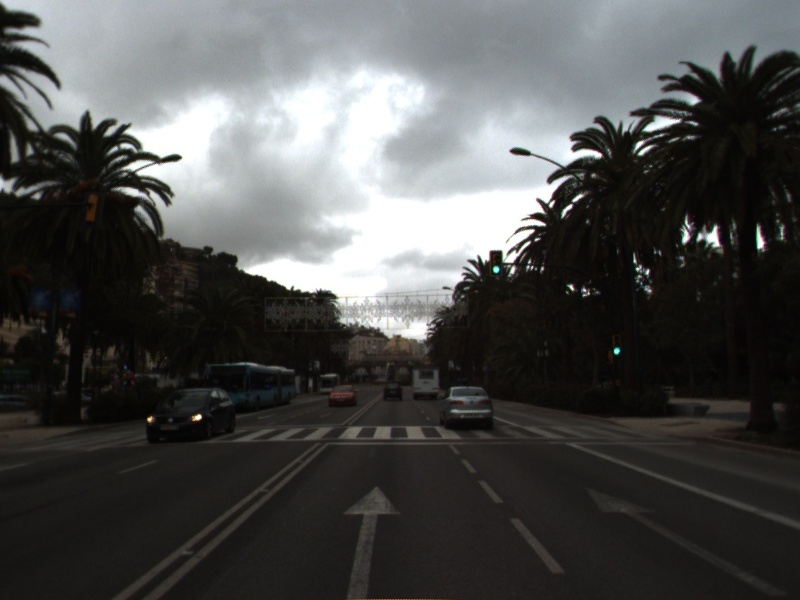STRAIGHT: (580, 481, 791, 598), (338, 482, 405, 600)
